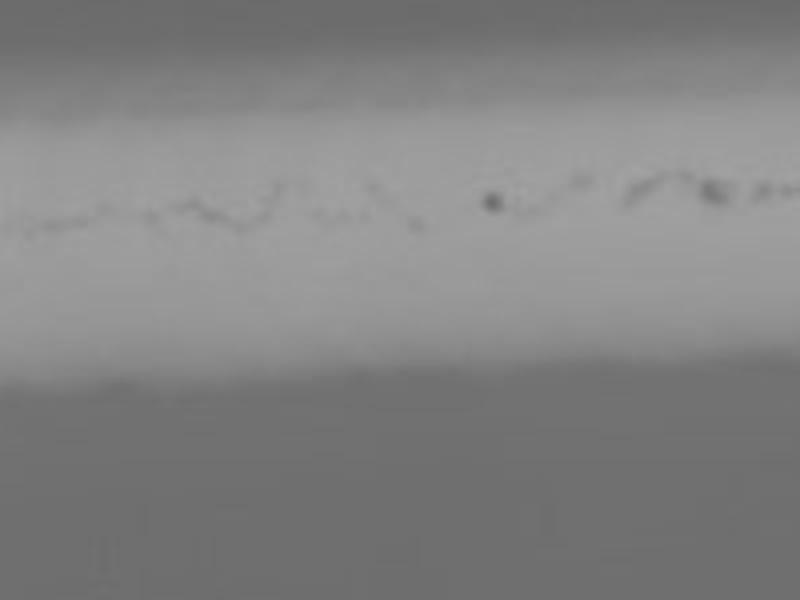defect: (622, 179, 651, 213), (701, 175, 730, 206), (568, 170, 591, 193), (481, 192, 503, 214), (256, 201, 273, 229), (143, 205, 162, 230), (410, 216, 430, 237), (751, 178, 771, 199), (67, 214, 89, 232), (780, 181, 799, 200), (678, 166, 696, 186), (187, 193, 203, 210), (270, 182, 286, 199), (367, 178, 384, 193), (356, 210, 372, 225), (208, 211, 223, 225), (313, 206, 327, 221), (334, 207, 349, 221), (231, 221, 250, 232)
